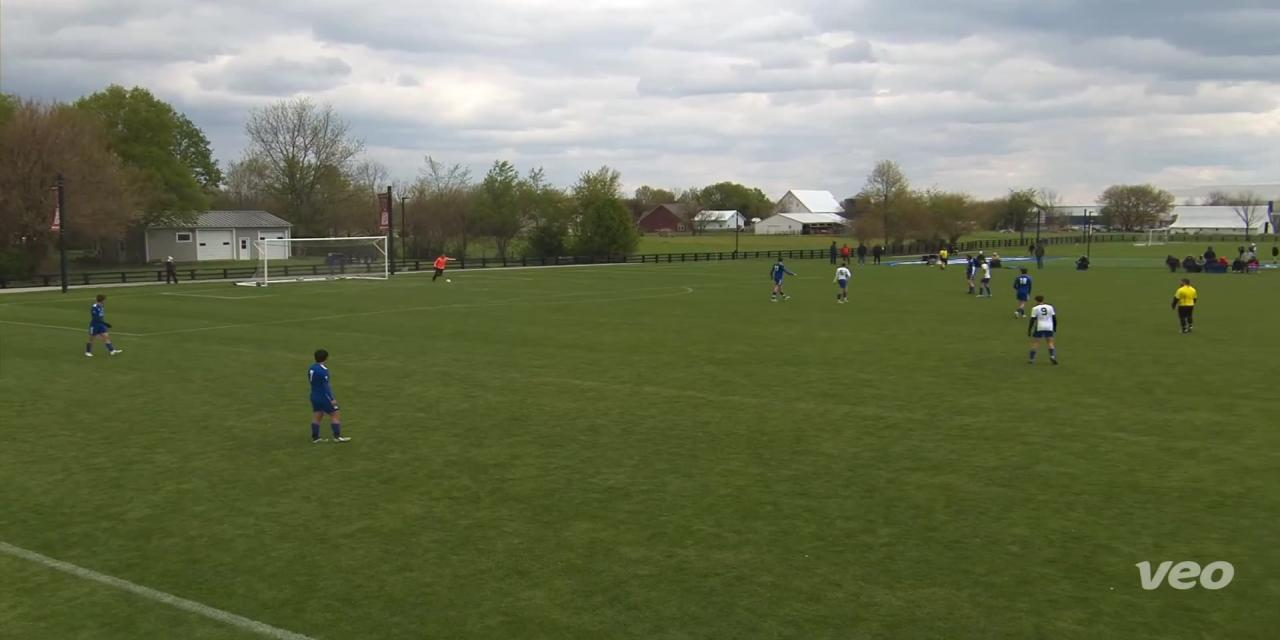goal: (213, 231, 396, 295)
sports ball: (445, 272, 459, 286)
